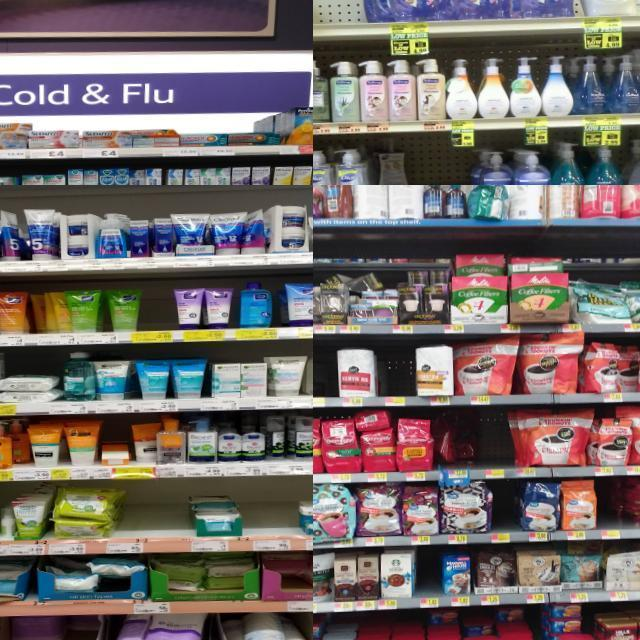Imprecise: (427, 602, 535, 640), (433, 418, 482, 470), (369, 134, 411, 186), (546, 599, 596, 640), (95, 438, 136, 468)
